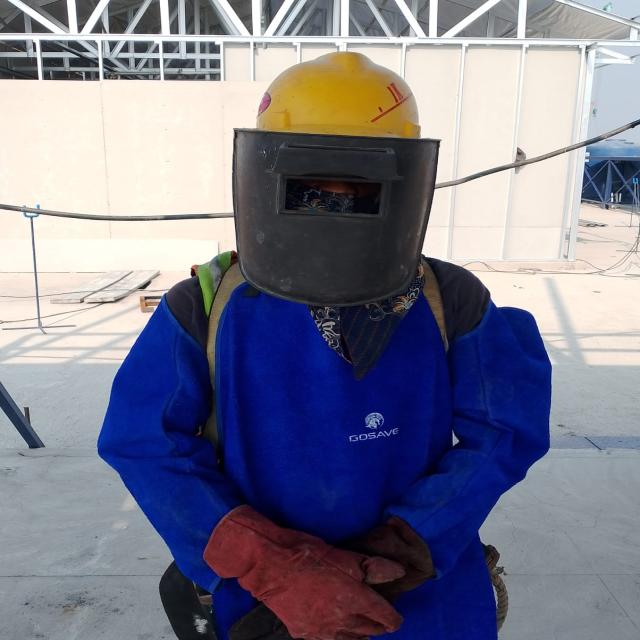gloves: (218, 513, 379, 640), (306, 524, 420, 640)
helmet: (248, 45, 431, 138)
